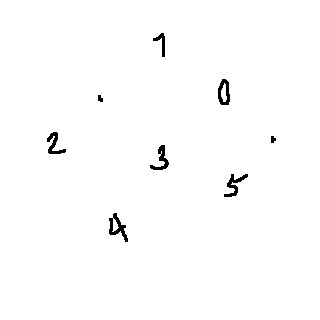.: (265, 129, 283, 148), (95, 88, 110, 109)
0: (210, 75, 239, 113)
1: (148, 28, 175, 69)
2: (41, 129, 71, 158)
3: (148, 136, 178, 178)
4: (102, 203, 142, 244)
5: (223, 168, 251, 204)
